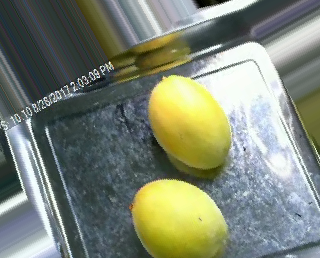Mango: (142, 72, 236, 174), (125, 173, 230, 257)
